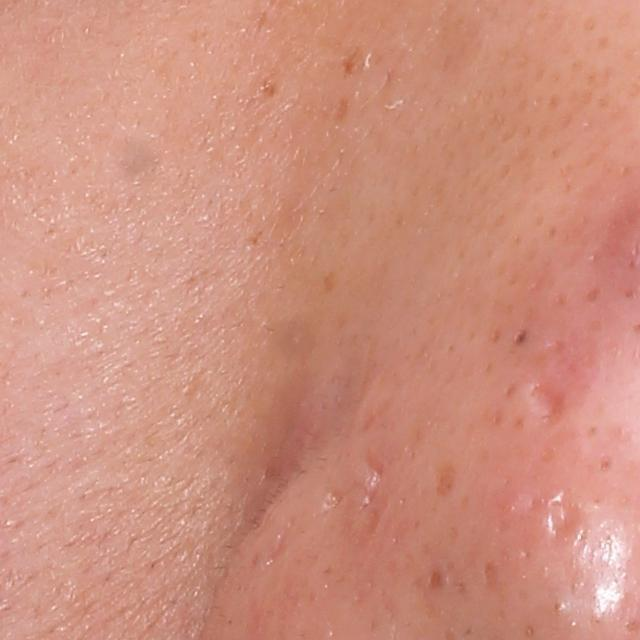atrophic_scar: (522, 382, 574, 428), (357, 442, 387, 512), (547, 488, 585, 542)
comedo: (509, 324, 536, 351)
melasma: (429, 456, 461, 503), (339, 44, 365, 82), (256, 74, 280, 104), (321, 270, 338, 295), (334, 99, 351, 120)
other: (106, 122, 169, 200)
